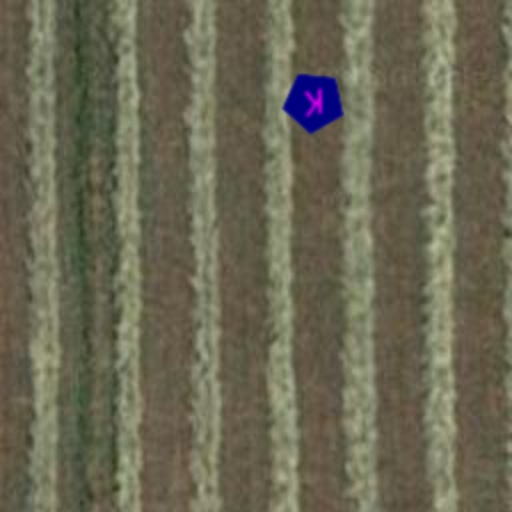pentagon: (274, 62, 354, 142)
